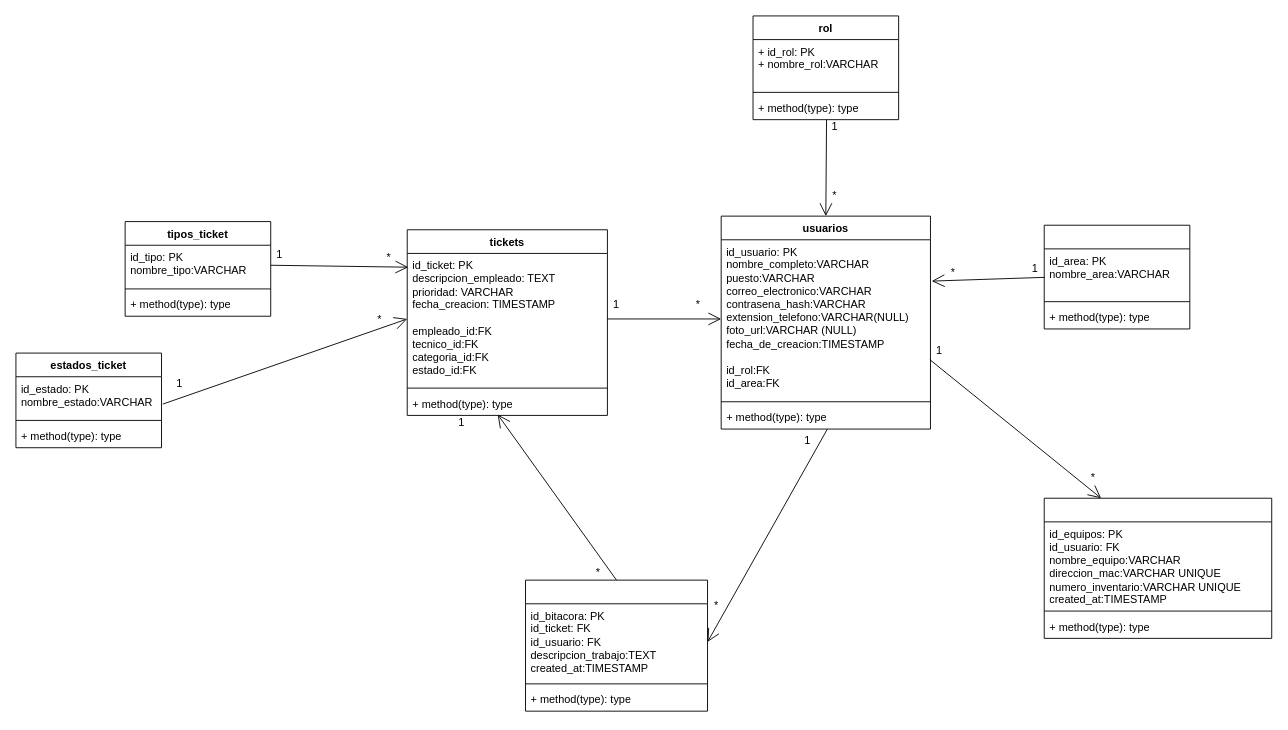
Image size: 1288x730. Some labels were removed from this diagram. Each missing label, with the box of its shape:
areas: (1043, 224, 1190, 329)
bitacora_tickets: (525, 579, 708, 711)
equipos_red: (1043, 497, 1272, 638)
